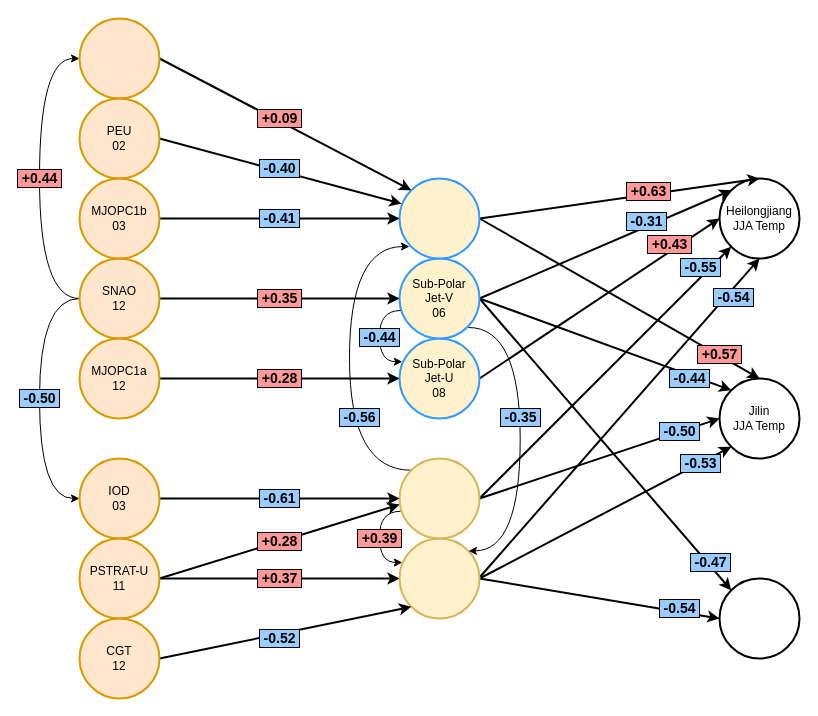
Image size: 818x716. Some labels were removed from this diagram. Each missing label, with the box of its shape:
EAWR 12: (78, 17, 160, 99)
Liaoning JJA Temp: (718, 577, 800, 659)
Sub-Polar Jet-U 06: (398, 177, 480, 259)
Sub-Tropical Jet-U 06: (398, 457, 480, 539)
Sub-Tropical Jet-U 07: (398, 537, 480, 619)
